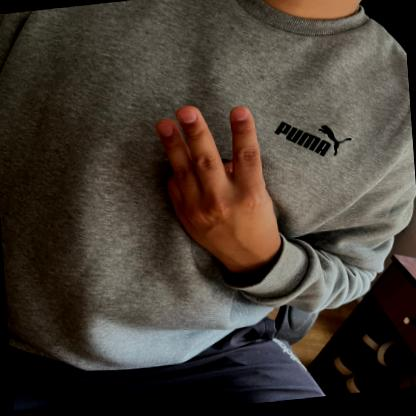W: (146, 91, 282, 275)
